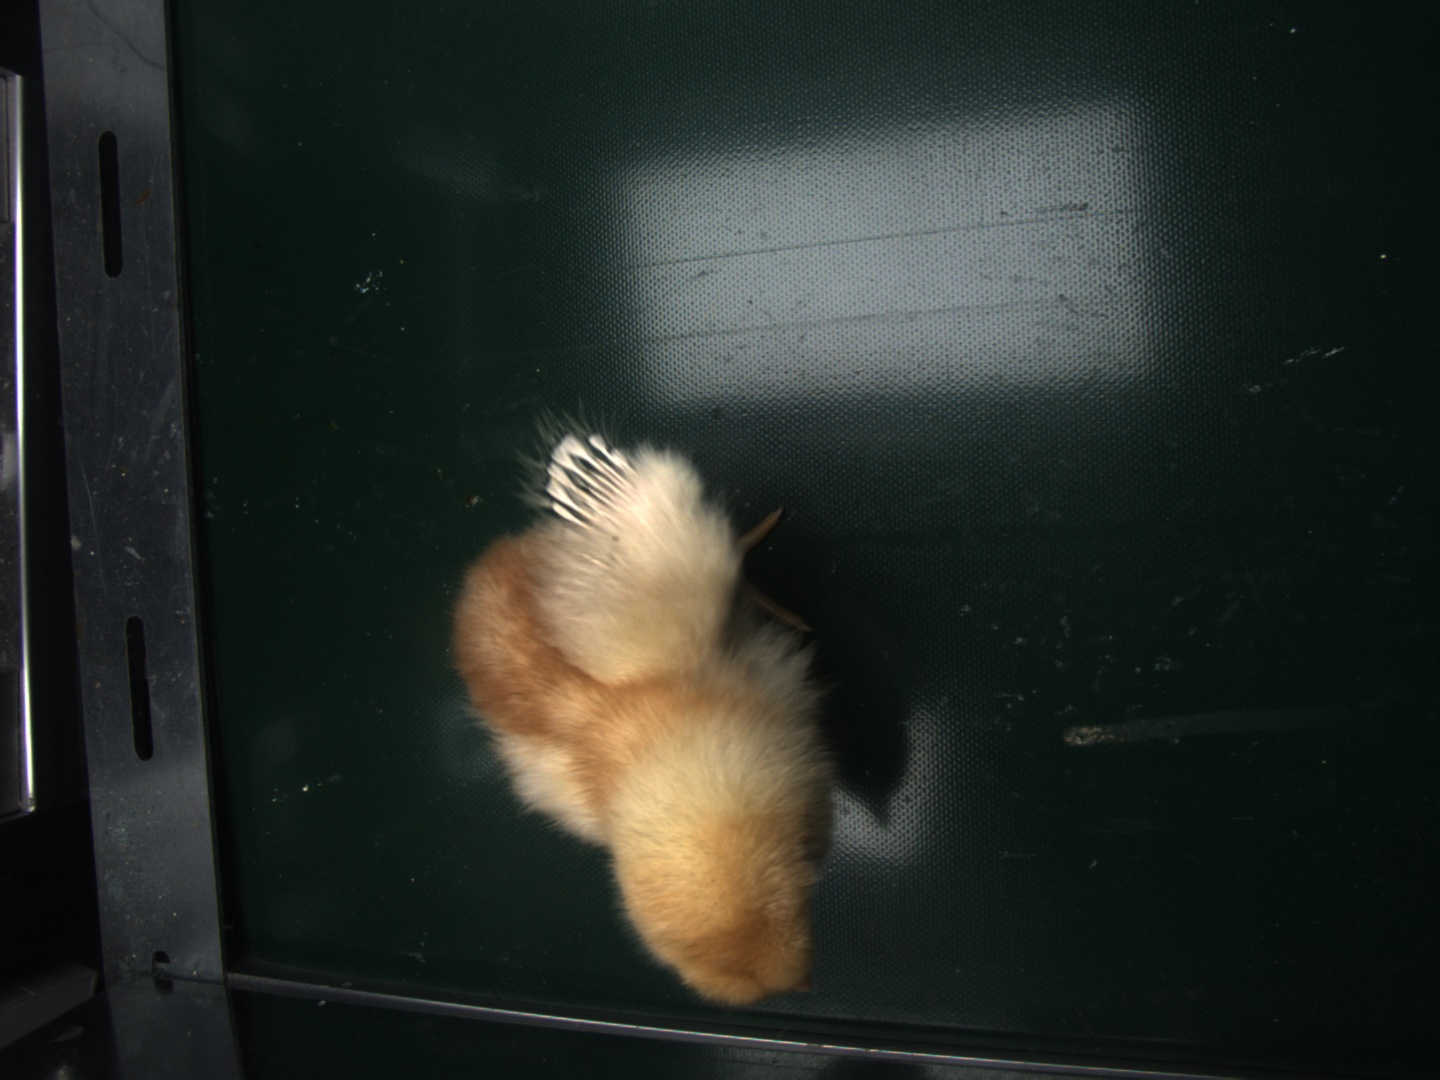female: (544, 434, 638, 532)
